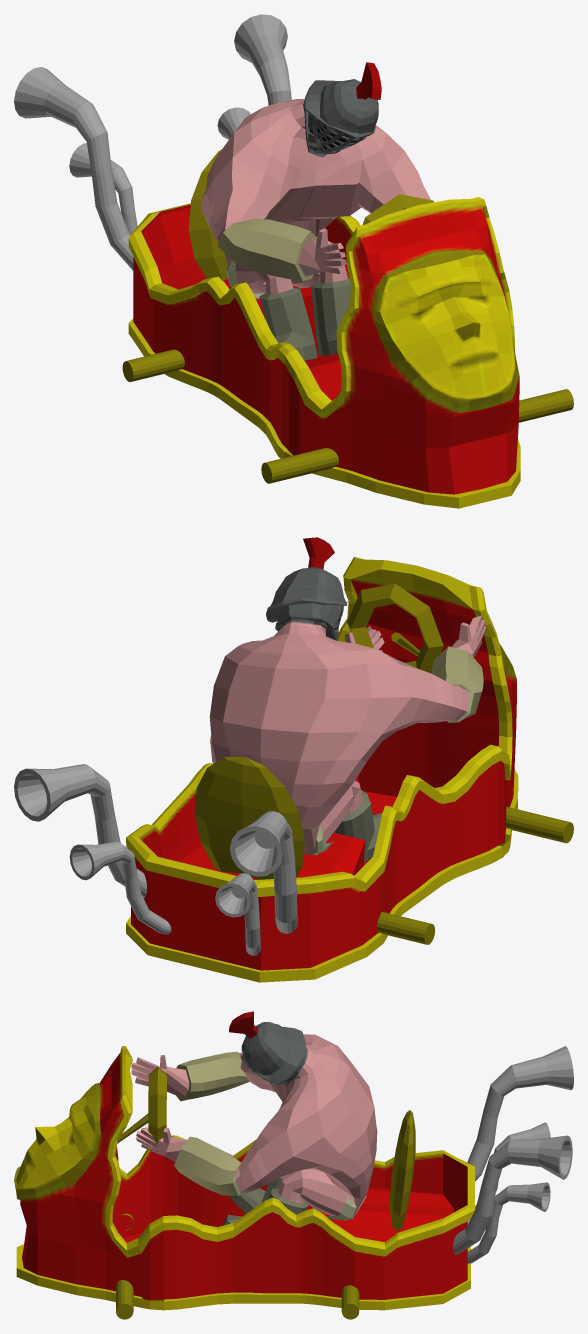
The model's file is GladiGiroIzq_000561.obj.
3 renders of one model, top to bottom at view 1: azimuth 30°, elevation 25°; view 2: azimuth 150°, elevation 25°; view 3: azimuth 270°, elevation 25°, orthographic. The views are drawn at different scales.
Parts seen in each view (by area): view 1: GladiChasis_GladiChasisH, Gadiador_Gladiador_H, GladiTubos_GladiTubosH, GladiVolante_GladiVolanteH; view 2: GladiChasis_GladiChasisH, Gadiador_Gladiador_H, GladiTubos_GladiTubosH, GladiVolante_GladiVolanteH; view 3: GladiChasis_GladiChasisH, Gadiador_Gladiador_H, GladiTubos_GladiTubosH, GladiVolante_GladiVolanteH.
Boxes of the visible parts, x1=… form: GladiChasis_GladiChasisH: x1=128, y1=197, x2=520, y2=508; Gadiador_Gladiador_H: x1=201, y1=62, x2=430, y2=360; GladiTubos_GladiTubosH: x1=14, y1=14, x2=291, y2=270; GladiVolante_GladiVolanteH: x1=122, y1=149, x2=573, y2=483; GladiChasis_GladiChasisH: x1=126, y1=557, x2=518, y2=982; Gadiador_Gladiador_H: x1=209, y1=537, x2=485, y2=862; GladiTubos_GladiTubosH: x1=14, y1=764, x2=297, y2=955; GladiVolante_GladiVolanteH: x1=194, y1=583, x2=573, y2=944; GladiChasis_GladiChasisH: x1=14, y1=1046, x2=474, y2=1310; Gadiador_Gladiador_H: x1=131, y1=1011, x2=377, y2=1225; GladiTubos_GladiTubosH: x1=453, y1=1046, x2=573, y2=1263; GladiVolante_GladiVolanteH: x1=116, y1=1066, x2=415, y2=1319.
Bounding box in the file's own units: 5.46 × 5.65 × 10.78.
4 materials, 4 textured.
